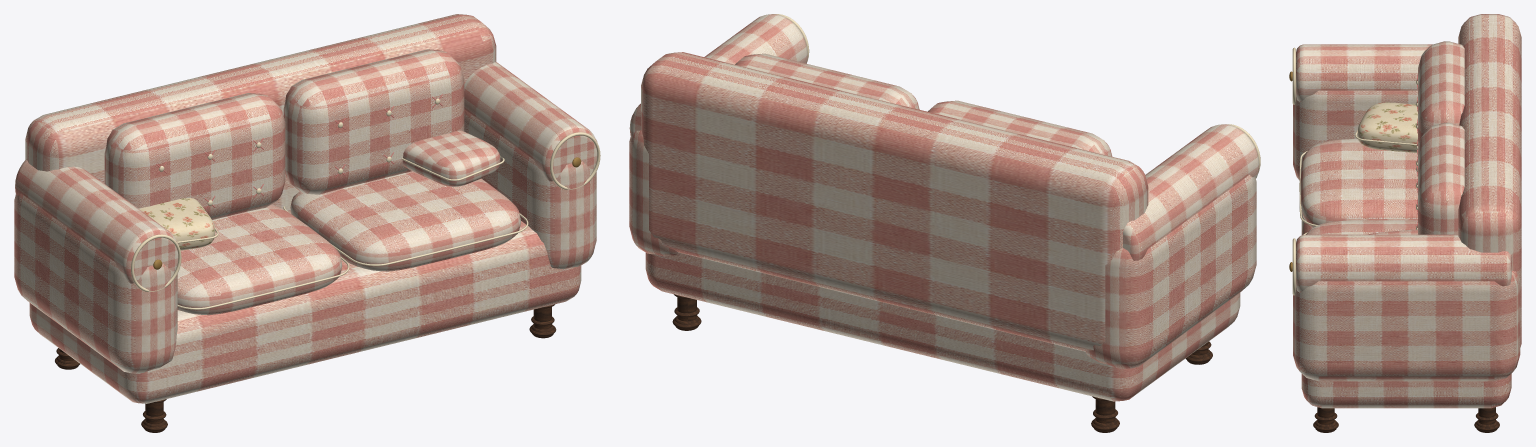
Rendered from SM_InteriorAdditions_Sofa.fbx.
3 renders of one model, left to right at view 1: azimuth 30°, elevation 25°; view 2: azimuth 150°, elevation 25°; view 3: azimuth 270°, elevation 25°, orthographic. The views are drawn at different scales.
Visible parts, largest first — view 1: SM_InteriorAdditions_Sofa; view 2: SM_InteriorAdditions_Sofa; view 3: SM_InteriorAdditions_Sofa.
Boxes of the visible parts, bbox=[...] form: SM_InteriorAdditions_Sofa: bbox=[14, 14, 600, 432]; SM_InteriorAdditions_Sofa: bbox=[629, 14, 1260, 432]; SM_InteriorAdditions_Sofa: bbox=[1289, 14, 1521, 432].
Size of what is drawn, in the model's own units: 258 by 116 by 127.
